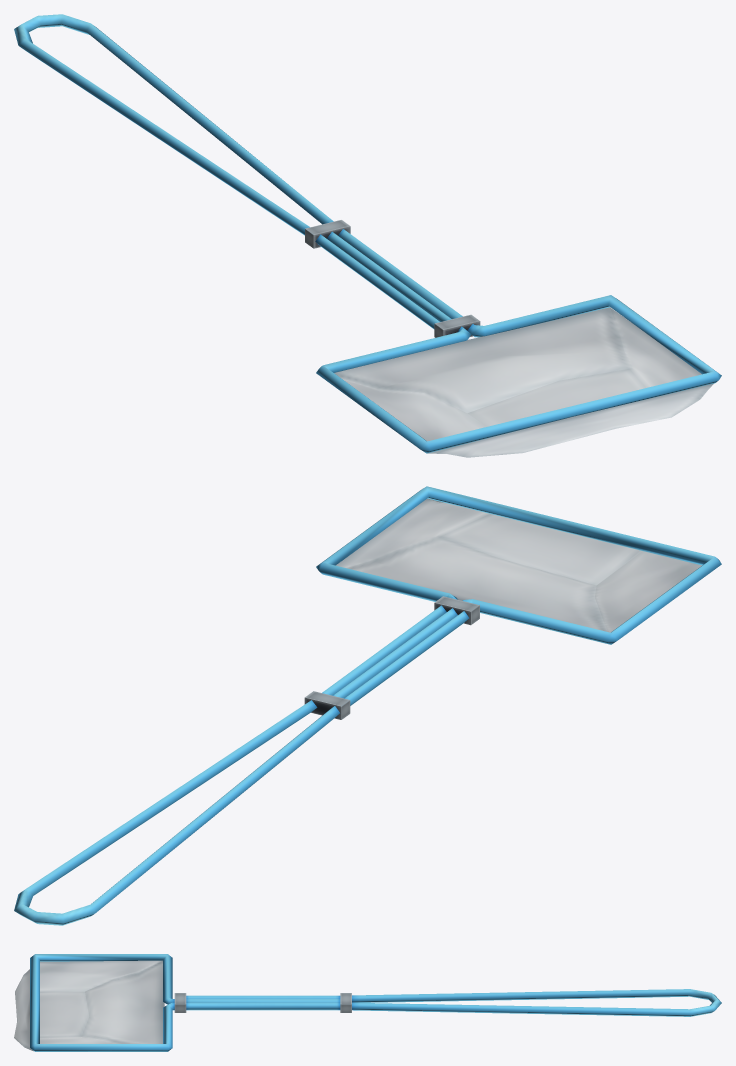
File: jsf_ScoopNet_01b.fbx
3 renders of one model, top to bottom at view 1: azimuth 30°, elevation 25°; view 2: azimuth 150°, elevation 25°; view 3: azimuth 270°, elevation 25°, orthographic. The views are drawn at different scales.
Parts seen in each view (by area): view 1: jsf_ScoopNet_01b; view 2: jsf_ScoopNet_01b; view 3: jsf_ScoopNet_01b.
Part boxes in pixels (x1,y1,x2,y2): jsf_ScoopNet_01b: [14, 14, 721, 457]; jsf_ScoopNet_01b: [14, 486, 721, 925]; jsf_ScoopNet_01b: [14, 954, 721, 1051].
Size of the model in its own units: 8.37 by 0.5416 by 26.6.
